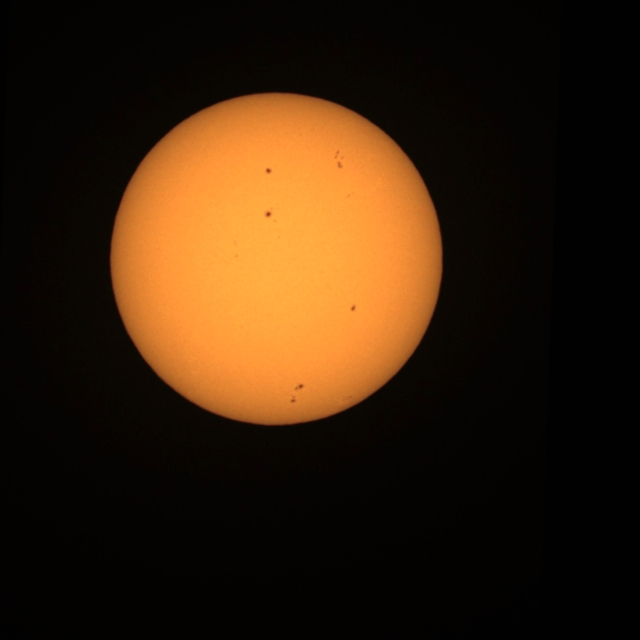sunspot: (289, 383, 305, 404), (333, 149, 345, 169), (341, 394, 354, 404), (264, 208, 274, 220), (346, 191, 356, 199), (264, 167, 273, 175), (350, 303, 357, 313), (233, 247, 239, 258), (233, 239, 238, 248), (277, 235, 281, 240), (234, 254, 238, 258)
